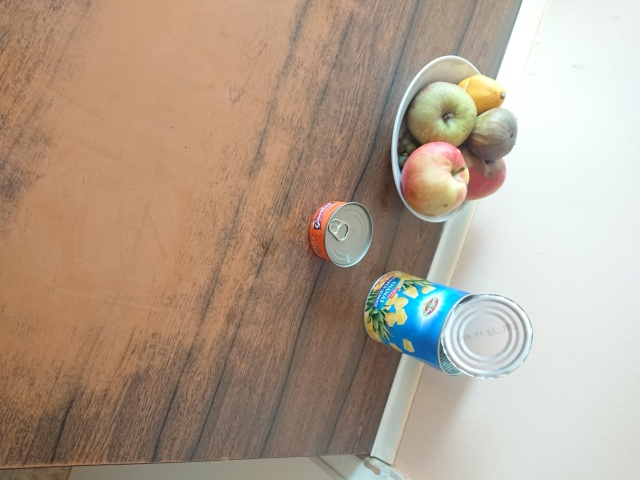Gavrilovic Pork Liver Pate 100g: (306, 198, 376, 270)
